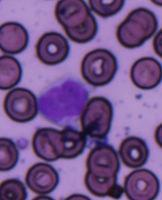M: (38, 73, 91, 125)
